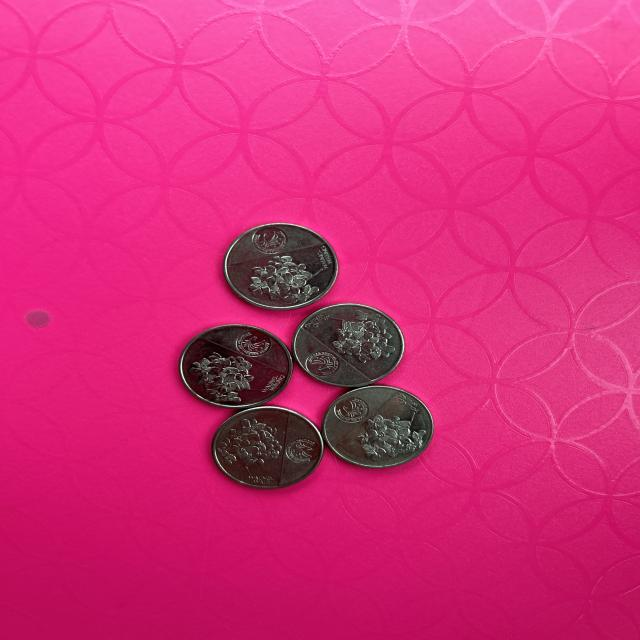1_New_Back: (318, 313, 394, 369), (246, 257, 321, 310), (216, 413, 280, 470), (353, 411, 423, 462), (190, 349, 256, 400)
